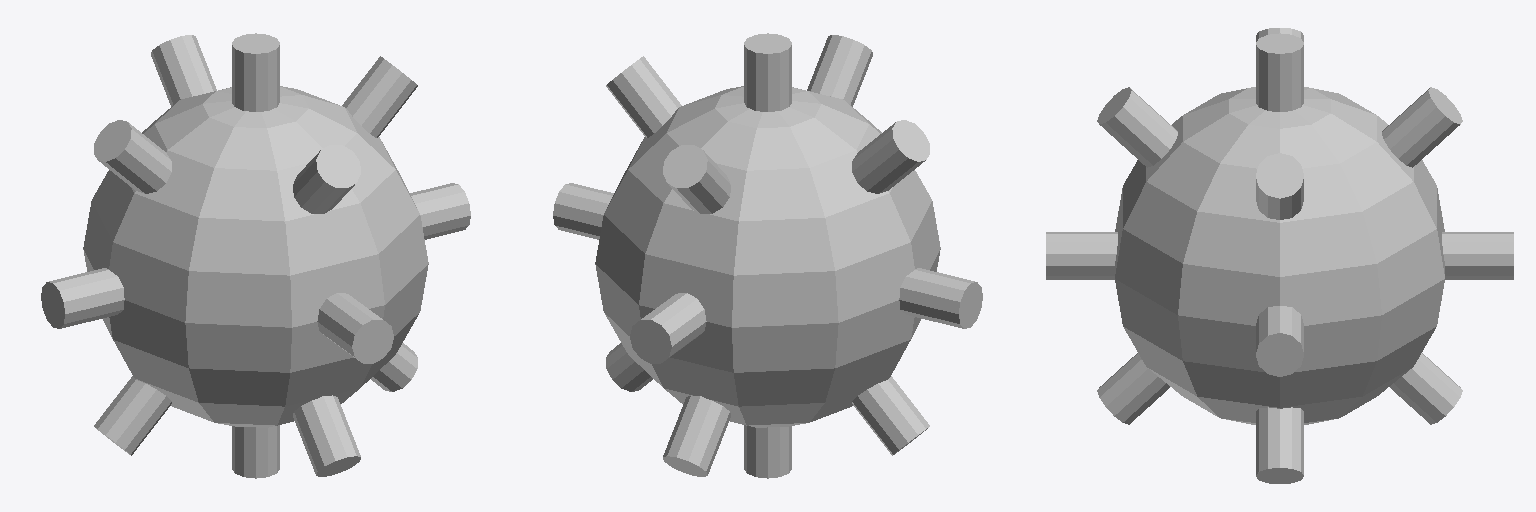
File: enemy_mine.obj
The picture shows the model from 3 angles: view 1: azimuth 30°, elevation 25°; view 2: azimuth 150°, elevation 25°; view 3: azimuth 270°, elevation 25°; orthographic projection.
Visible parts, largest first — view 1: Sphere; view 2: Sphere; view 3: Sphere.
Part boxes in pixels (x1,y1,x2,y2): Sphere: (41,33,470,478); Sphere: (553,33,982,478); Sphere: (1046,28,1513,483).
Size of the model in its own units: 2.7 by 2.7 by 2.7.